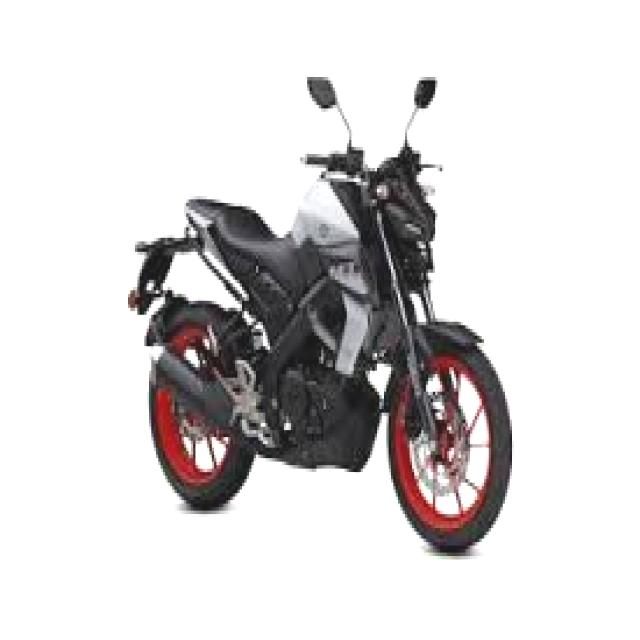MOTORCYCLE: (140, 130, 516, 546)
